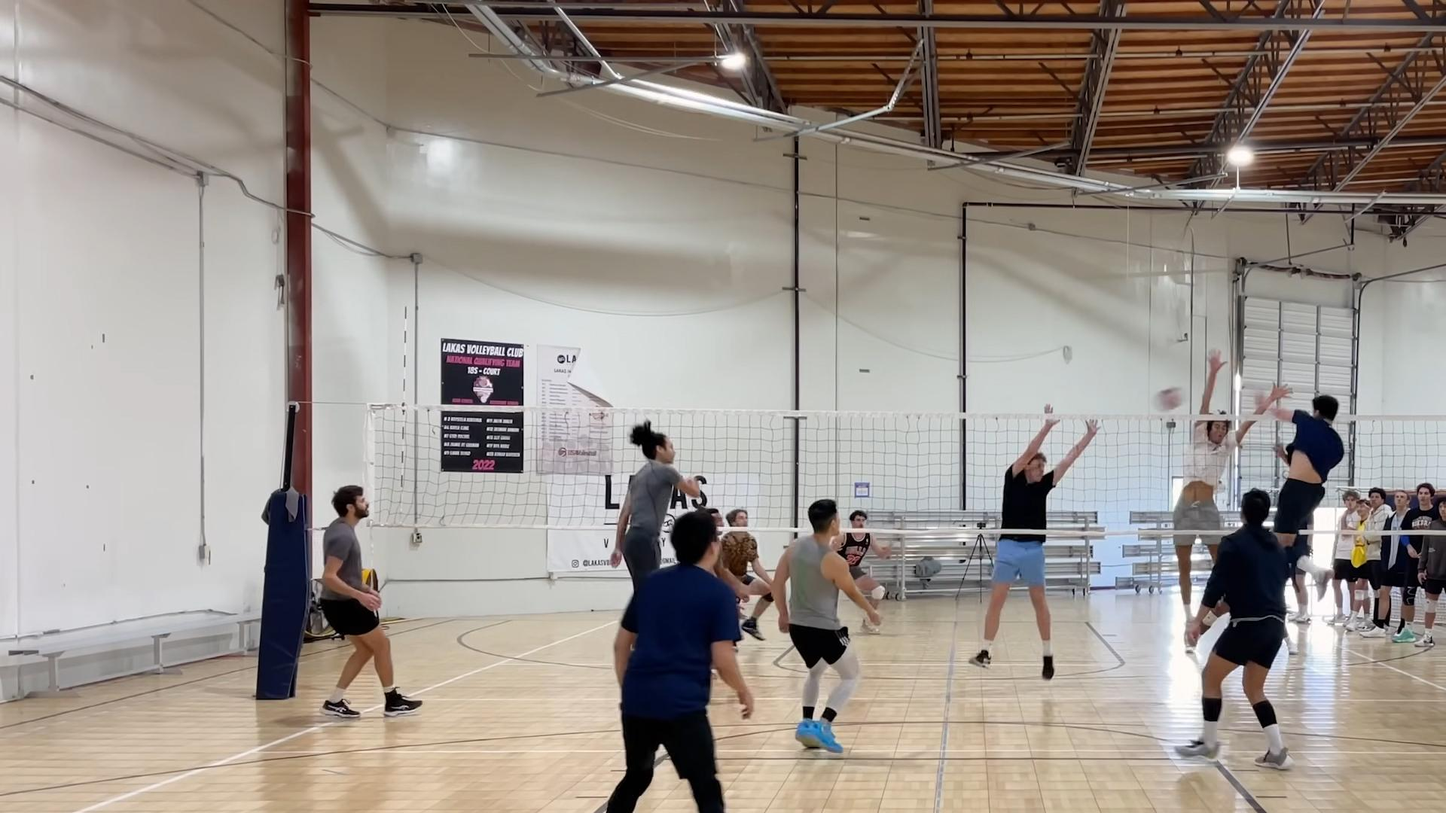attacco: (1258, 386, 1346, 621)
muro: (1156, 341, 1289, 664)
